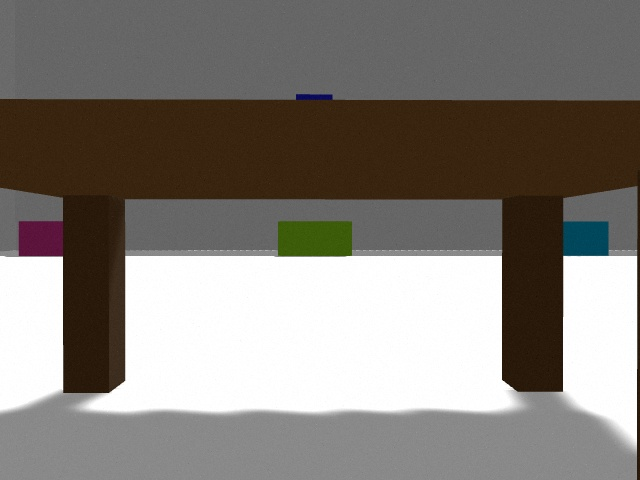blue_cube: (296, 94, 333, 99)
blue_drop_zone: (564, 221, 609, 256)
green_drop_zone: (278, 221, 352, 256)
red_drop_zone: (19, 221, 63, 256)
